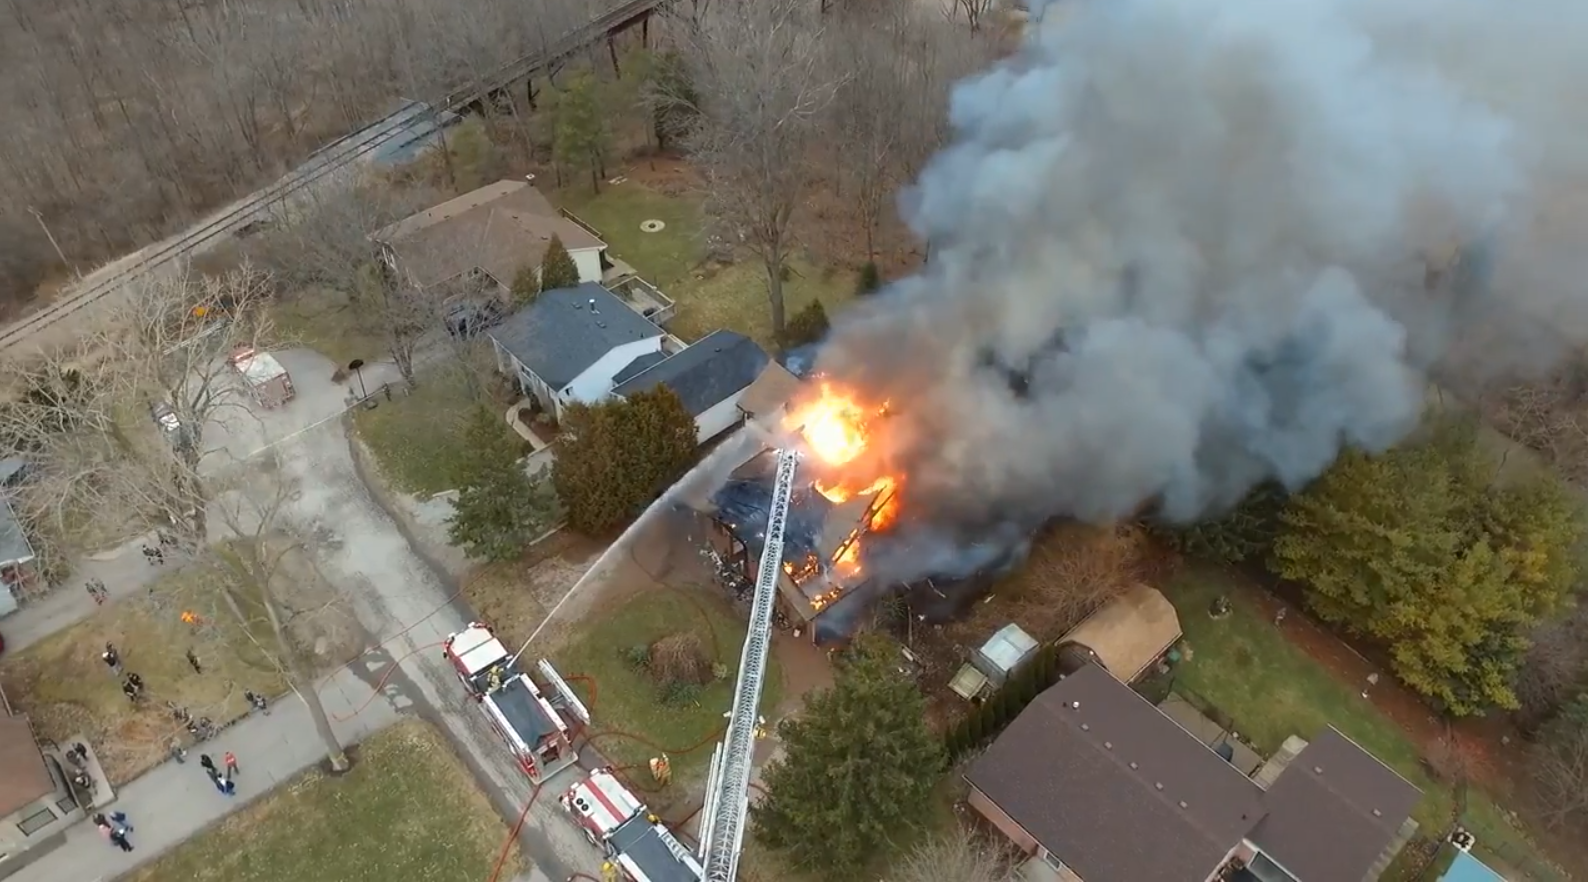fire: (756, 385, 922, 547)
